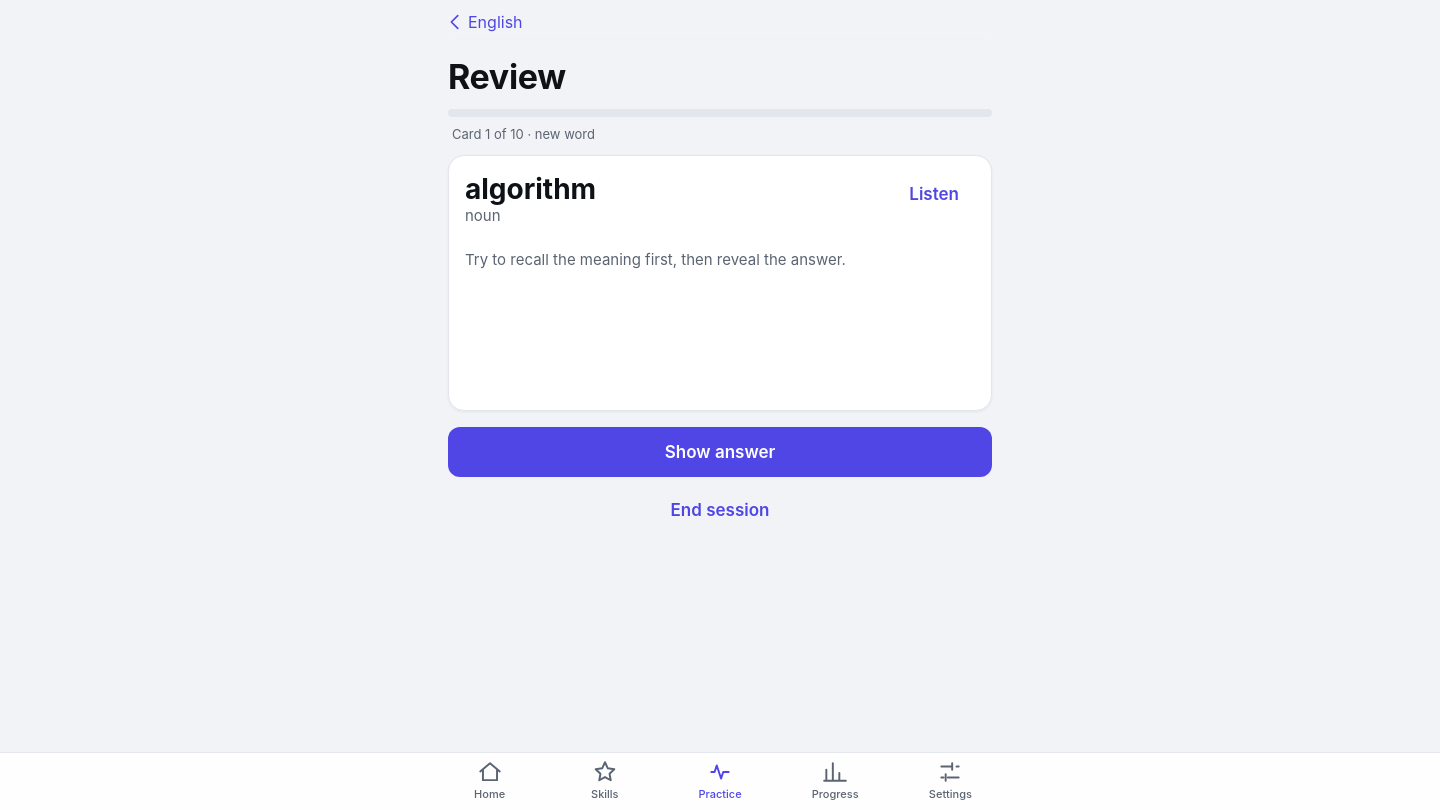
Scenario: Review session › "Again" brings the card back later in the same session
Expected: the heading "algorithm" is shown, [465,172,596,206]
Click the button "Show answer" at (720, 452), box [448,427,992,477]
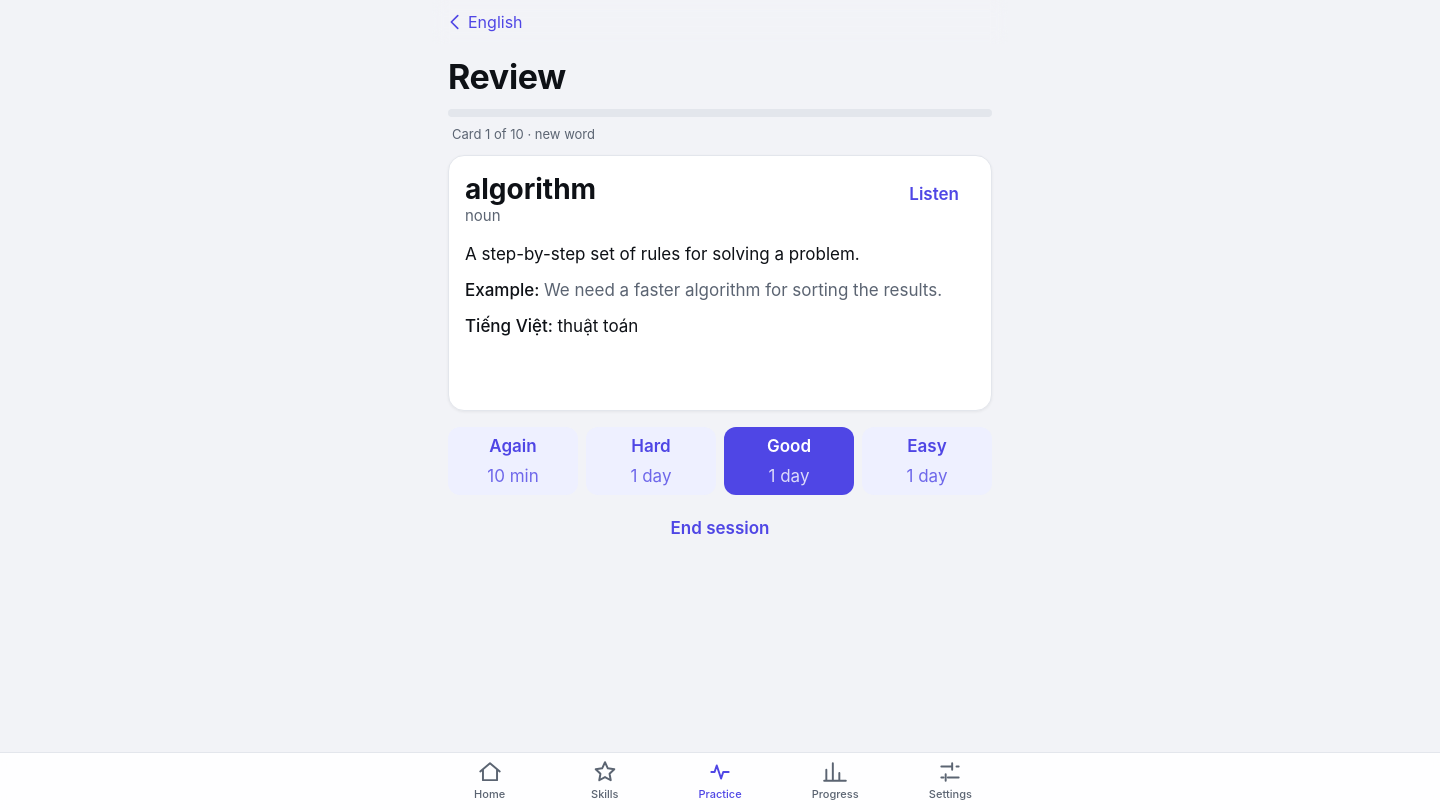
Click the button "Again 10 min" at (513, 461), box [448,427,578,495]
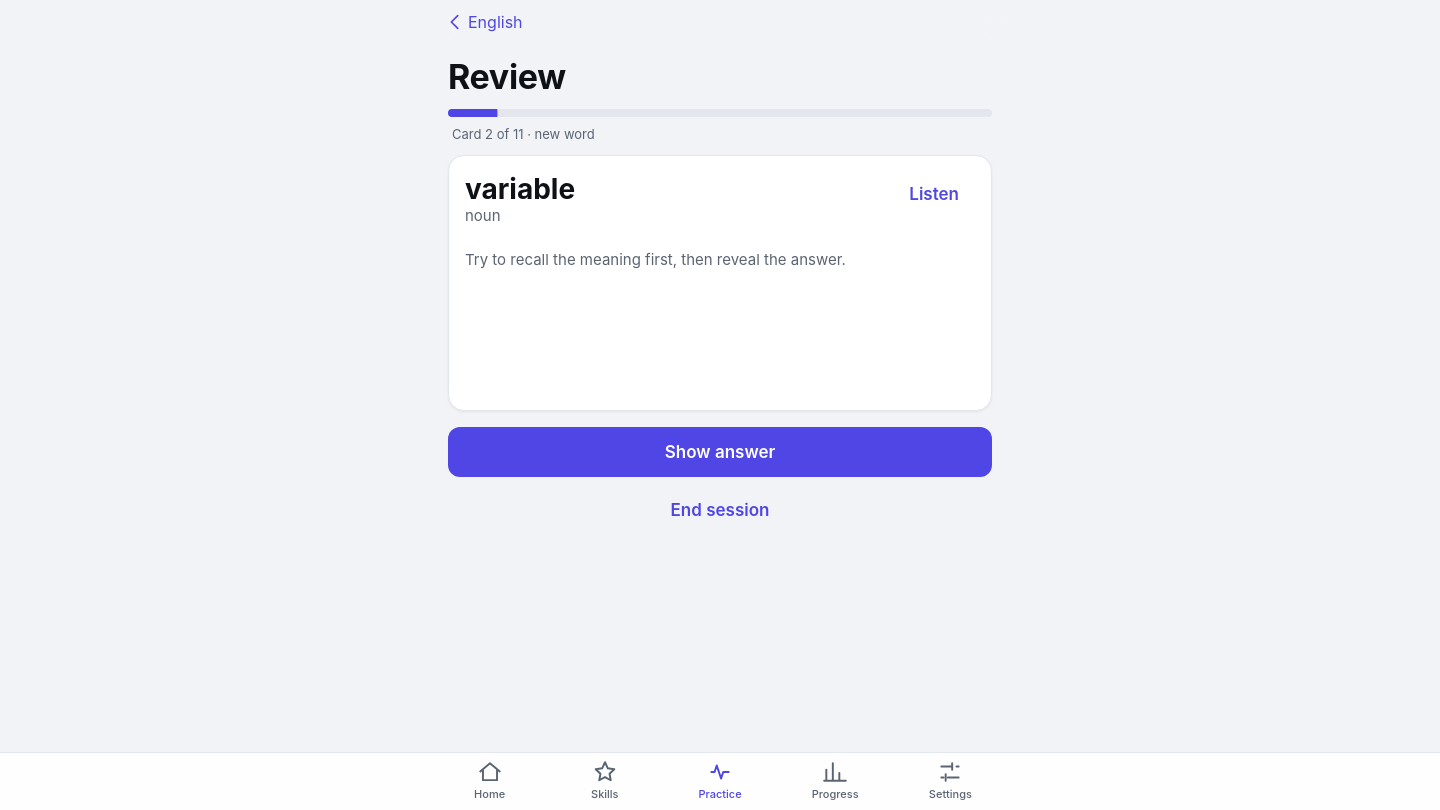
Now the text "Card 2 of 11 · new word" is shown, box [452,126,595,142]
